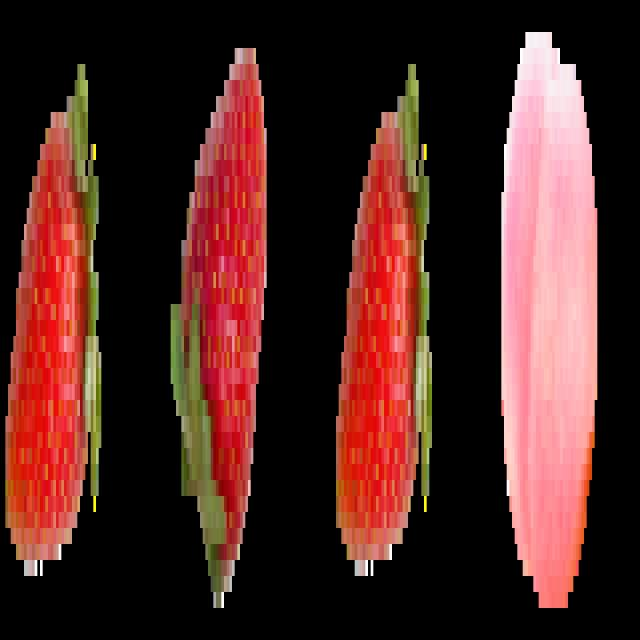peach: (496, 16, 602, 625)
strawberry: (330, 38, 440, 608), (166, 38, 272, 625), (3, 38, 107, 590)
